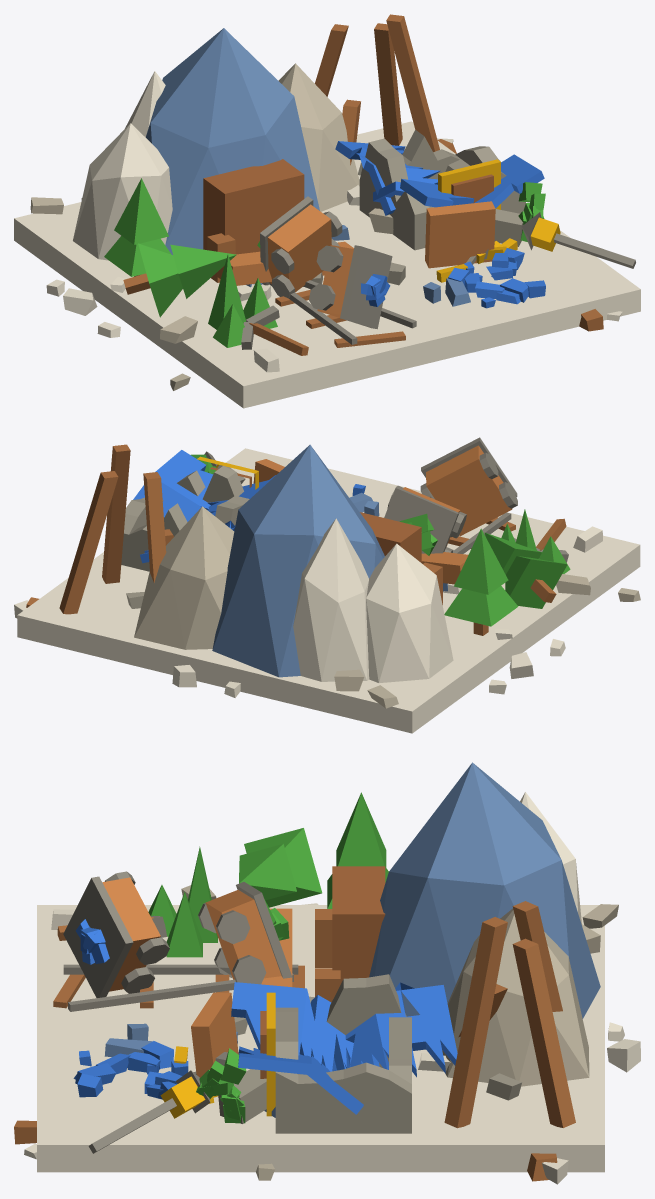
File: mine_t3_v3_dmg2.glb
3 views of the same model, one above another, from view 1: azimuth 30°, elevation 25°; view 2: azimuth 150°, elevation 25°; view 3: azimuth 270°, elevation 25° (orthographic). The views are drawn at different scales.
Visible parts, largest first — view 1: mine_t3_v3_dmg2; view 2: mine_t3_v3_dmg2; view 3: mine_t3_v3_dmg2.
Part boxes in pixels (left/top/right/bottom): mine_t3_v3_dmg2: left=14, top=14, right=640, bottom=408; mine_t3_v3_dmg2: left=14, top=437, right=640, bottom=733; mine_t3_v3_dmg2: left=14, top=762, right=640, bottom=1184.
Size of the model in its own units: 0.8607 by 0.3853 by 0.8282.
1 material, 1 textured.
